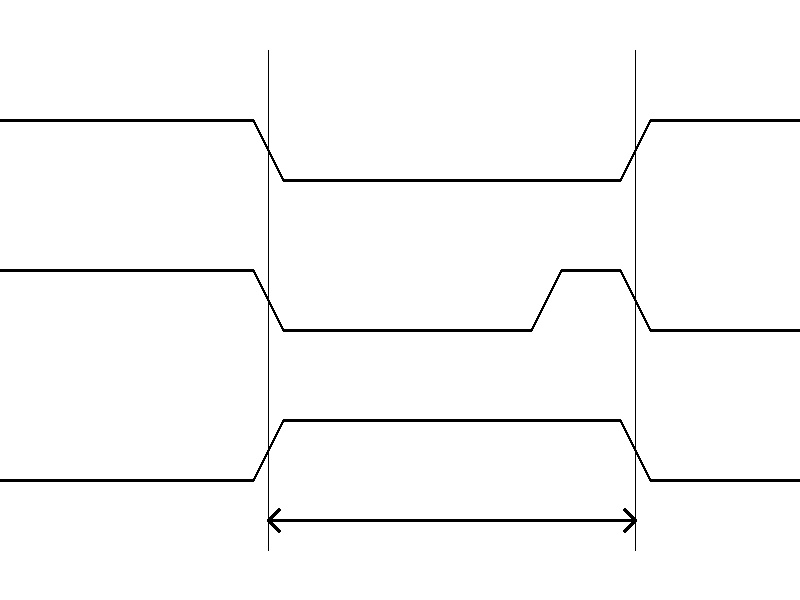double_arrow: (268, 505, 635, 535)
